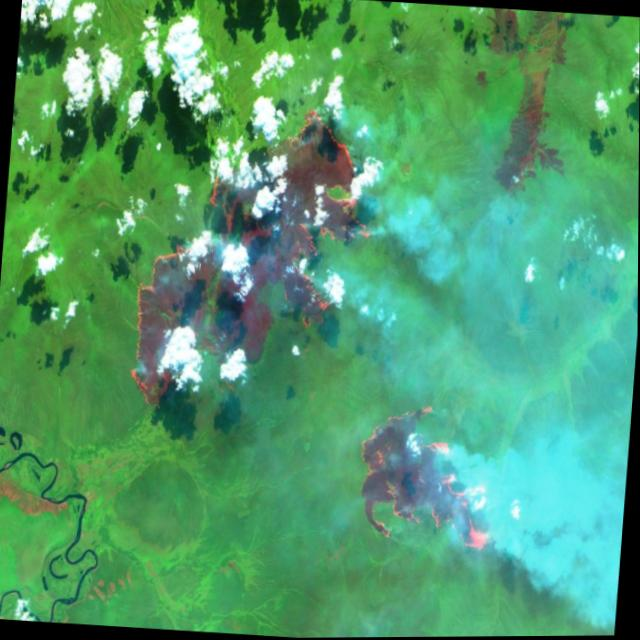fire: (111, 92, 384, 440), (348, 405, 500, 571)
